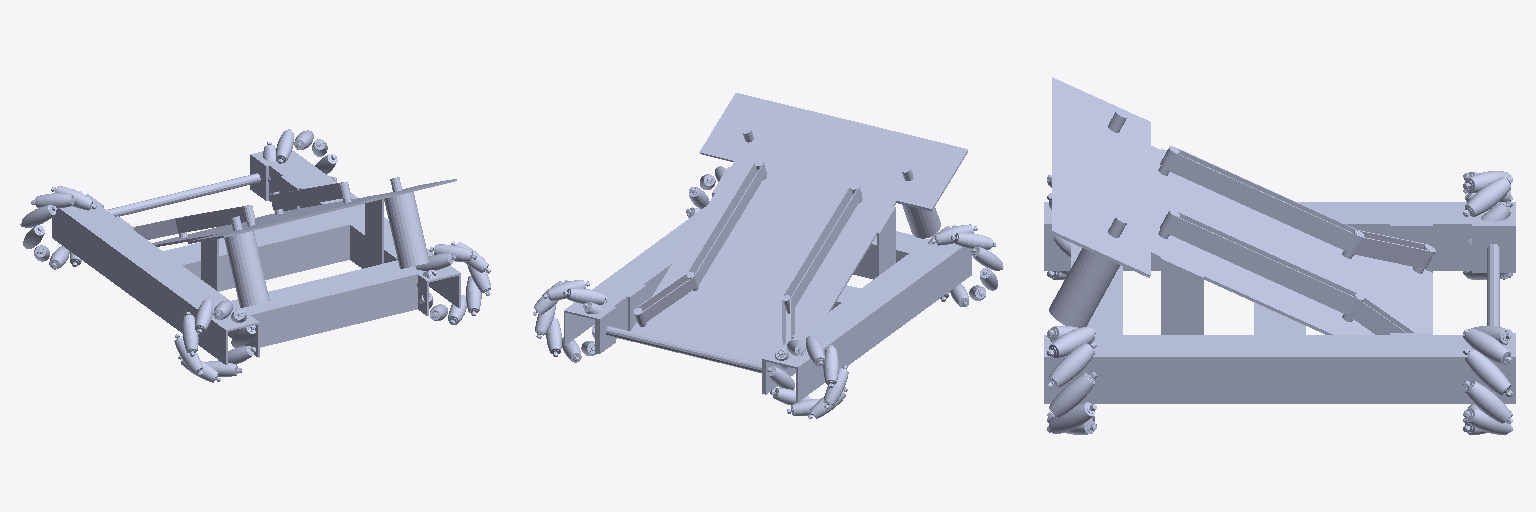
--- What the picture shows (computed from the rendered views, not written in the file) ---
Views: 3 orthographic renders of the robot side by side, from view 1: azimuth 30°, elevation 25°; view 2: azimuth 150°, elevation 25°; view 3: azimuth 270°, elevation 25°.
Robot: strafer_model — 41 links, 40 joints (4 revolute, 36 continuous); root link base_link; default pose: all joints at 0.
Visible links, largest first — view 1: base_link, BRRoller6, BLRoller1; view 2: base_link, FLRoller2, BRRoller7, BLRoller2; view 3: base_link, FLRoller4, FRRoller7, FRRoller6, FLRoller5, BLRoller9, FLRoller3, FRRoller8, FRRoller5, FLRoller6, BLRoller1.
Link boxes in pixels (x1,y1,x2,y2): base_link: [52, 150, 460, 364]; BRRoller6: [182, 312, 198, 356]; BLRoller1: [31, 193, 77, 208]; base_link: [564, 93, 971, 401]; FLRoller2: [563, 288, 607, 304]; BRRoller7: [951, 233, 995, 249]; BLRoller2: [823, 345, 838, 387]; base_link: [1044, 77, 1515, 403]; FLRoller4: [1463, 348, 1512, 396]; FRRoller7: [1047, 342, 1096, 388]; FRRoller6: [1047, 372, 1096, 418]; FLRoller5: [1463, 380, 1512, 423]; BLRoller9: [1463, 177, 1512, 216]; FLRoller3: [1463, 328, 1512, 364]; FRRoller8: [1047, 326, 1096, 357]; FRRoller5: [1047, 402, 1096, 433]; FLRoller6: [1463, 408, 1512, 434]; BLRoller1: [1463, 171, 1512, 192].
Bounding box of the posed robot: 0.4362 × 0.432 × 0.2011 m (x, y, z).
37 mesh visuals loaded from 6 distinct referenced files (2 binary STL); not drawn: 4 (reference not matched to a file when rendering).

robot.urdf — strafer_model:
<?xml version="1.0" encoding="utf-8"?>
<robot
  name="strafer_model">
  <link
    name="base_link">
    <inertial>
      <origin
        xyz="-0.016292 3.3582E-06 -0.02018"
        rpy="0 0 0" />
      <mass
        value="0.58644" />
      <inertia
        ixx="0.00065076"
        ixy="7.8985E-07"
        ixz="-2.2496E-13"
        iyy="0.0035701"
        iyz="-3.2998E-14"
        izz="0.0040095" />
    </inertial>
    <visual>
      <origin
        xyz="0 0 0"
        rpy="0 0 0" />
      <geometry>
        <mesh
          filename="package://strafer_model/meshes/base_link.STL" />
      </geometry>
      <material
        name="">
        <color
          rgba="0.79216 0.81961 0.93333 1" />
      </material>
    </visual>
    <collision>
      <origin
        xyz="0 0 0"
        rpy="0 0 0" />
      <geometry>
        <mesh
          filename="package://strafer_model/meshes/base_link.STL" />
      </geometry>
    </collision>
  </link>
  <link
    name="FrontLeftWheel">
    <inertial>
      <origin
        xyz="3.39739815277407E-05 4.9356401105316E-06 -0.00613659782409681"
        rpy="0 0 0" />
      <mass
        value="0.0804682866756198" />
      <inertia
        ixx="2.69245879503666E-05"
        ixy="-2.00917821834308E-10"
        ixz="4.63929817693137E-10"
        iyy="2.69699462595992E-05"
        iyz="-9.31893983633401E-10"
        izz="4.08759690754829E-05" />
    </inertial>
    <visual>
      <origin
        xyz="0 0 0"
        rpy="0 0 0" />
      <geometry>
        <mesh
          filename="package://strafer_model/meshes/FrontLeftWheel.STL" />
      </geometry>
      <material
        name="">
        <color
          rgba="0.792156862745098 0.819607843137255 0.933333333333333 1" />
      </material>
    </visual>
    <collision>
      <origin
        xyz="0 0 0"
        rpy="0 0 0" />
      <geometry>
        <mesh
          filename="package://strafer_model/meshes/FrontLeftWheel.STL" />
      </geometry>
    </collision>
  </link>
  <joint
    name="FLWheel"
    type="revolute">
    <origin
      xyz="0.168 0.1865 -0.024"
      rpy="-1.5708 0 0" />
    <parent
      link="base_link" />
    <child
      link="FrontLeftWheel" />
    <axis
      xyz="0 0 -1" />
    <limit
      lower="0"
      upper="0"
      effort="0"
      velocity="0" />
  </joint>
  <link
    name="FLRoller1">
    <inertial>
      <origin
        xyz="-2.34268624221823E-08 3.63620185073188E-08 1.0754510831934E-05"
        rpy="0 0 0" />
      <mass
        value="0.0112744168031489" />
      <inertia
        ixx="1.80406494202718E-06"
        ixy="2.14641839534138E-11"
        ixz="-1.91050875400135E-12"
        iyy="1.80394749460907E-06"
        iyz="8.09468708840999E-13"
        izz="4.6159022187171E-07" />
    </inertial>
    <visual>
      <origin
        xyz="0 0 0"
        rpy="0 0 0" />
      <geometry>
        <mesh
          filename="package://strafer_model/meshes/roller.STL" />
      </geometry>
      <material
        name="">
        <color
          rgba="0.792156862745098 0.819607843137255 0.933333333333333 1" />
      </material>
    </visual>
    <collision>
      <origin
        xyz="0 0 0"
        rpy="0 0 0" />
      <geometry>
        <mesh
          filename="package://strafer_model/meshes/roller.STL" />
      </geometry>
    </collision>
  </link>
  <joint
    name="FLRoll1"
    type="continuous">
    <origin
      xyz="-0.03653 -0.016961 0.0041748"
      rpy="0.7854 0 0.43633" />
    <parent
      link="FrontLeftWheel" />
    <child
      link="FLRoller1" />
    <axis
      xyz="0 0 -1" />
  </joint>
  <link
    name="FLRoller2">
    <inertial>
      <origin
        xyz="-4.49325468845907E-08 4.0966877959403E-08 1.07527109071692E-05"
        rpy="0 0 0" />
      <mass
        value="0.0112744164564055" />
      <inertia
        ixx="1.80406478097708E-06"
        ixy="2.14367409920363E-11"
        ixz="-1.83601624036415E-12"
        iyy="1.80394765211163E-06"
        iyz="1.10435374774077E-12"
        izz="4.61590241200356E-07" />
    </inertial>
    <visual>
      <origin
        xyz="0 0 0"
        rpy="0 0 0" />
      <geometry>
        <mesh
          filename="package://strafer_model/meshes/roller.STL" />
      </geometry>
      <material
        name="">
        <color
          rgba="0.792156862745098 0.819607843137255 0.933333333333333 1" />
      </material>
    </visual>
    <collision>
      <origin
        xyz="0 0 0"
        rpy="0 0 0" />
      <geometry>
        <mesh
          filename="package://strafer_model/meshes/roller.STL" />
      </geometry>
    </collision>
  </link>
  <joint
    name="FLRoll2"
    type="continuous">
    <origin
      xyz="-0.017081 -0.036475 0.0041748"
      rpy="0.7854 0 1.1345" />
    <parent
      link="FrontLeftWheel" />
    <child
      link="FLRoller2" />
    <axis
      xyz="0 0 -1" />
  </joint>
  <link
    name="FLRoller3">
    <inertial>
      <origin
        xyz="-2.38113999767586E-08 1.44467253992975E-08 1.07504095642197E-05"
        rpy="0 0 0" />
      <mass
        value="0.0112744230621349" />
      <inertia
        ixx="1.80406624338752E-06"
        ixy="2.45287119445432E-11"
        ixz="-9.97163842188661E-13"
        iyy="1.80394785966638E-06"
        iyz="-4.03543768648695E-13"
        izz="4.61590554384152E-07" />
    </inertial>
    <visual>
      <origin
        xyz="0 0 0"
        rpy="0 0 0" />
      <geometry>
        <mesh
          filename="package://strafer_model/meshes/roller.STL" />
      </geometry>
      <material
        name="">
        <color
          rgba="0.792156862745098 0.819607843137255 0.933333333333333 1" />
      </material>
    </visual>
    <collision>
      <origin
        xyz="0 0 0"
        rpy="0 0 0" />
      <geometry>
        <mesh
          filename="package://strafer_model/meshes/roller.STL" />
      </geometry>
    </collision>
  </link>
  <joint
    name="FLRoll3"
    type="continuous">
    <origin
      xyz="0.01036 -0.038921 0.0041748"
      rpy="0.7854 0 1.8326" />
    <parent
      link="FrontLeftWheel" />
    <child
      link="FLRoller3" />
    <axis
      xyz="0 0 -1" />
  </joint>
  <link
    name="FLRoller4">
    <inertial>
      <origin
        xyz="-3.63776565259766E-08 3.45034985166359E-08 1.07540245798121E-05"
        rpy="0 0 0" />
      <mass
        value="0.0112744162788279" />
      <inertia
        ixx="1.80406483795751E-06"
        ixy="2.14250374139785E-11"
        ixz="-1.93939304855891E-12"
        iyy="1.80394755863014E-06"
        iyz="9.79505755039191E-13"
        izz="4.61590235015267E-07" />
    </inertial>
    <visual>
      <origin
        xyz="0 0 0"
        rpy="0 0 0" />
      <geometry>
        <mesh
          filename="package://strafer_model/meshes/roller.STL" />
      </geometry>
      <material
        name="">
        <color
          rgba="0.792156862745098 0.819607843137255 0.933333333333333 1" />
      </material>
    </visual>
    <collision>
      <origin
        xyz="0 0 0"
        rpy="0 0 0" />
      <geometry>
        <mesh
          filename="package://strafer_model/meshes/roller.STL" />
      </geometry>
    </collision>
  </link>
  <joint
    name="FLRoll4"
    type="continuous">
    <origin
      xyz="0.032954 -0.023156 0.0041748"
      rpy="0.7854 0 2.5307" />
    <parent
      link="FrontLeftWheel" />
    <child
      link="FLRoller4" />
    <axis
      xyz="0 0 -1" />
  </joint>
  <link
    name="FLRoller5">
    <inertial>
      <origin
        xyz="1.23485176528604E-08 -1.13964373771314E-08 1.07508174673476E-05"
        rpy="0 0 0" />
      <mass
        value="0.0112744230610089" />
      <inertia
        ixx="1.80406277156194E-06"
        ixy="3.16480506904751E-11"
        ixz="9.37537876195166E-13"
        iyy="1.803951327602E-06"
        iyz="5.8706291318539E-13"
        izz="4.6159053646315E-07" />
    </inertial>
    <visual>
      <origin
        xyz="0 0 0"
        rpy="0 0 0" />
      <geometry>
        <mesh
          filename="package://strafer_model/meshes/roller.STL" />
      </geometry>
      <material
        name="">
        <color
          rgba="0.792156862745098 0.819607843137255 0.933333333333333 1" />
      </material>
    </visual>
    <collision>
      <origin
        xyz="0 0 0"
        rpy="0 0 0" />
      <geometry>
        <mesh
          filename="package://strafer_model/meshes/roller.STL" />
      </geometry>
    </collision>
  </link>
  <joint
    name="FLRoll5"
    type="continuous">
    <origin
      xyz="0.040129 0.0034443 0.0041748"
      rpy="-0.78444 -0.043675 0.04355" />
    <parent
      link="FrontLeftWheel" />
    <child
      link="FLRoller5" />
    <axis
      xyz="0 0 -1" />
  </joint>
  <link
    name="FLRoller6">
    <inertial>
      <origin
        xyz="-2.17163979576718E-08 3.94999260522333E-08 1.07537513077127E-05"
        rpy="0 0 0" />
      <mass
        value="0.0112744167461434" />
      <inertia
        ixx="1.80406494822239E-06"
        ixy="2.14815660143568E-11"
        ixz="-1.85051149954687E-12"
        iyy="1.80394749445496E-06"
        iyz="7.88746699227551E-13"
        izz="4.61590215120528E-07" />
    </inertial>
    <visual>
      <origin
        xyz="0 0 0"
        rpy="0 0 0" />
      <geometry>
        <mesh
          filename="package://strafer_model/meshes/roller.STL" />
      </geometry>
      <material
        name="">
        <color
          rgba="0.792156862745098 0.819607843137255 0.933333333333333 1" />
      </material>
    </visual>
    <collision>
      <origin
        xyz="0 0 0"
        rpy="0 0 0" />
      <geometry>
        <mesh
          filename="package://strafer_model/meshes/roller.STL" />
      </geometry>
    </collision>
  </link>
  <joint
    name="FLRoll6"
    type="continuous">
    <origin
      xyz="0.028526 0.028433 0.0041748"
      rpy="0.7854 0 -2.3562" />
    <parent
      link="FrontLeftWheel" />
    <child
      link="FLRoller6" />
    <axis
      xyz="0 0 -1" />
  </joint>
  <link
    name="FLRoller7">
    <inertial>
      <origin
        xyz="7.1129492712485E-09 -3.75346422831768E-08 1.07544833555517E-05"
        rpy="0 0 0" />
      <mass
        value="0.0112744169152084" />
      <inertia
        ixx="1.80406506403846E-06"
        ixy="2.14989064485802E-11"
        ixz="1.85532828398602E-12"
        iyy="1.80394742970951E-06"
        iyz="-5.93779847757905E-13"
        izz="4.6159022752474E-07" />
    </inertial>
    <visual>
      <origin
        xyz="0 0 0"
        rpy="0 0 0" />
      <geometry>
        <mesh
          filename="package://strafer_model/meshes/roller.STL" />
      </geometry>
      <material
        name="">
        <color
          rgba="0.792156862745098 0.819607843137255 0.933333333333333 1" />
      </material>
    </visual>
    <collision>
      <origin
        xyz="0 0 0"
        rpy="0 0 0" />
      <geometry>
        <mesh
          filename="package://strafer_model/meshes/roller.STL" />
      </geometry>
    </collision>
  </link>
  <joint
    name="FLRoll7"
    type="continuous">
    <origin
      xyz="0.0035763 0.040117 0.0041748"
      rpy="-0.7854 0 1.4835" />
    <parent
      link="FrontLeftWheel" />
    <child
      link="FLRoller7" />
    <axis
      xyz="0 0 -1" />
  </joint>
  <link
    name="FLRoller8">
    <inertial>
      <origin
        xyz="2.40038156712474E-09 2.72000632572933E-08 1.07495550280348E-05"
        rpy="0 0 0" />
      <mass
        value="0.011274422935902" />
      <inertia
        ixx="1.80406623432169E-06"
        ixy="2.45289334876781E-11"
        ixz="-7.92500932069932E-13"
        iyy="1.80394784013193E-06"
        iyz="-6.06160702632356E-13"
        izz="4.61590520972789E-07" />
    </inertial>
    <visual>
      <origin
        xyz="0 0 0"
        rpy="0 0 0" />
      <geometry>
        <mesh
          filename="package://strafer_model/meshes/roller.STL" />
      </geometry>
      <material
        name="">
        <color
          rgba="0.792156862745098 0.819607843137255 0.933333333333333 1" />
      </material>
    </visual>
    <collision>
      <origin
        xyz="0 0 0"
        rpy="0 0 0" />
      <geometry>
        <mesh
          filename="package://strafer_model/meshes/roller.STL" />
      </geometry>
    </collision>
  </link>
  <joint
    name="FLRoll8"
    type="continuous">
    <origin
      xyz="-0.023047 0.03303 0.0041748"
      rpy="0.7854 0 -0.95993" />
    <parent
      link="FrontLeftWheel" />
    <child
      link="FLRoller8" />
    <axis
      xyz="0 0 -1" />
  </joint>
  <link
    name="FLRoller9">
    <inertial>
      <origin
        xyz="-2.74759459906182E-08 4.92279496056014E-08 1.07521820149337E-05"
        rpy="0 0 0" />
      <mass
        value="0.0112744170259304" />
      <inertia
        ixx="1.80406491739991E-06"
        ixy="2.15169251142341E-11"
        ixz="-1.70579570544813E-12"
        iyy="1.80394758575905E-06"
        iyz="8.81940649496488E-13"
        izz="4.61590195727897E-07" />
    </inertial>
    <visual>
      <origin
        xyz="0 0 0"
        rpy="0 0 0" />
      <geometry>
        <mesh
          filename="package://strafer_model/meshes/roller.STL" />
      </geometry>
      <material
        name="">
        <color
          rgba="0.792156862745098 0.819607843137255 0.933333333333333 1" />
      </material>
    </visual>
    <collision>
      <origin
        xyz="0 0 0"
        rpy="0 0 0" />
      <geometry>
        <mesh
          filename="package://strafer_model/meshes/roller.STL" />
      </geometry>
    </collision>
  </link>
  <joint
    name="FLRoll9"
    type="continuous">
    <origin
      xyz="-0.038887 0.010488 0.0041748"
      rpy="0.7854 0 -0.2618" />
    <parent
      link="FrontLeftWheel" />
    <child
      link="FLRoller9" />
    <axis
      xyz="0 0 -1" />
  </joint>
  <link
    name="FrontRightWheel">
    <inertial>
      <origin
        xyz="4.36233315499468E-05 1.98643977483183E-05 -0.0063031560084984"
        rpy="0 0 0" />
      <mass
        value="0.0806070802648314" />
      <inertia
        ixx="2.69339983694675E-05"
        ixy="8.45197242498788E-09"
        ixz="1.00834401414536E-09"
        iyy="2.69652477885891E-05"
        iyz="-1.90457148654837E-09"
        izz="4.08798950068479E-05" />
    </inertial>
    <visual>
      <origin
        xyz="0 0 0"
        rpy="0 0 0" />
      <geometry>
        <mesh
          filename="package://strafer_model/meshes/FrontRightWheel.STL" />
      </geometry>
      <material
        name="">
        <color
          rgba="0.792156862745098 0.819607843137255 0.933333333333333 1" />
      </material>
    </visual>
    <collision>
      <origin
        xyz="0 0 0"
        rpy="0 0 0" />
      <geometry>
        <mesh
          filename="package://strafer_model/meshes/FrontRightWheel.STL" />
      </geometry>
    </collision>
  </link>
  <joint
    name="FRWheel"
    type="revolute">
    <origin
      xyz="0.168 -0.1865 -0.024"
      rpy="1.5708 0 0" />
    <parent
      link="base_link" />
    <child
      link="FrontRightWheel" />
    <axis
      xyz="0 0 -1" />
    <limit
      lower="0"
      upper="0"
      effort="0"
      velocity="0" />
  </joint>
  <link
    name="FRRoller1">
    <inertial>
      <origin
        xyz="1.72301547751719E-08 2.21694913399295E-08 -5.89914095061594E-06"
        rpy="0 0 0" />
      <mass
        value="0.0112744231238086" />
      <inertia
        ixx="1.80406315272245E-06"
        ixy="-3.26953192433989E-11"
        ixz="-9.80443309782096E-13"
        iyy="1.80395092178258E-06"
        iyz="1.05356285559854E-13"
        izz="4.61590531421906E-07" />
    </inertial>
    <visual>
      <origin
        xyz="0 0 0"
        rpy="0 0 0" />
      <geometry>
        <mesh
          filename="package://strafer_model/meshes/roller.STL" />
      </geometry>
      <material
        name="">
        <color
          rgba="0.792156862745098 0.819607843137255 0.933333333333333 1" />
      </material>
    </visual>
    <collision>
      <origin
        xyz="0 0 0"
        rpy="0 0 0" />
      <geometry>
        <mesh
          filename="package://strafer_model/meshes/roller.STL" />
      </geometry>
    </collision>
  </link>
  <joint
    name="FRRoll1"
    type="continuous">
    <origin
      xyz="-0.038905 0.01042 0.0042545"
      rpy="-0.7854 0 -0.2618" />
    <parent
      link="FrontRightWheel" />
    <child
      link="FRRoller1" />
    <axis
      xyz="0 0 -1" />
  </joint>
  <link
    name="FRRoller2">
    <inertial>
      <origin
        xyz="8.47089914879362E-09 4.88616552496435E-08 -5.89353919573654E-06"
        rpy="0 0 0" />
      <mass
        value="0.0112744172818041" />
      <inertia
        ixx="1.80405972494955E-06"
        ixy="-3.4161637092801E-11"
        ixz="-1.23870576633177E-12"
        iyy="1.8039528156778E-06"
        iyz="1.74961375973445E-12"
        izz="4.61590210352325E-07" />
    </inertial>
    <visual>
      <origin
        xyz="0 0 0"
        rpy="0 0 0" />
      <geometry>
        <mesh
          filename="package://strafer_model/meshes/roller.STL" />
      </geometry>
      <material
        name="">
        <color
          rgba="0.792156862745098 0.819607843137255 0.933333333333333 1" />
      </material>
    </visual>
    <collision>
      <origin
        xyz="0 0 0"
        rpy="0 0 0" />
      <geometry>
        <mesh
          filename="package://strafer_model/meshes/roller.STL" />
      </geometry>
    </collision>
  </link>
  <joint
    name="FRRoll2"
    type="continuous">
    <origin
      xyz="-0.036501 -0.017025 0.0042545"
      rpy="-0.7854 0 0.43633" />
    <parent
      link="FrontRightWheel" />
    <child
      link="FRRoller2" />
    <axis
      xyz="0 0 -1" />
  </joint>
  <link
    name="FRRoller3">
    <inertial>
      <origin
        xyz="2.39597095635924E-09 2.5117392221663E-08 -5.88952659290667E-06"
        rpy="0 0 0" />
      <mass
        value="0.0112744099750016" />
      <inertia
        ixx="1.80405596432675E-06"
        ixy="-3.58736954034125E-11"
        ixz="-8.91837889891117E-13"
        iyy="1.80395465737001E-06"
        iyz="2.31939172871155E-13"
        izz="4.61589908168111E-07" />
    </inertial>
    <visual>
      <origin
        xyz="0 0 0"
        rpy="0 0 0" />
      <geometry>
        <mesh
          filename="package://strafer_model/meshes/roller.STL" />
      </geometry>
      <material
        name="">
        <color
          rgba="0.792156862745098 0.819607843137255 0.933333333333333 1" />
      </material>
    </visual>
    <collision>
      <origin
        xyz="0 0 0"
        rpy="0 0 0" />
      <geometry>
        <mesh
          filename="package://strafer_model/meshes/roller.STL" />
      </geometry>
    </collision>
  </link>
  <joint
    name="FRRoll3"
    type="continuous">
    <origin
      xyz="-0.017017 -0.036504 0.0042545"
      rpy="-0.7854 0 1.1345" />
    <parent
      link="FrontRightWheel" />
    <child
      link="FRRoller3" />
    <axis
      xyz="0 0 -1" />
  </joint>
  <link
    name="FRRoller4">
    <inertial>
      <origin
        xyz="-1.86562677528812E-08 4.08430093634671E-08 -5.88968424471148E-06"
        rpy="0 0 0" />
      <mass
        value="0.0112744101071283" />
      <inertia
        ixx="1.80405600234828E-06"
        ixy="-3.58510973001867E-11"
        ixz="-5.74981388808108E-13"
        iyy="1.80395475136628E-06"
        iyz="6.13315684559003E-13"
        izz="4.61589949557257E-07" />
    </inertial>
    <visual>
      <origin
        xyz="0 0 0"
        rpy="0 0 0" />
      <geometry>
        <mesh
          filename="package://strafer_model/meshes/roller.STL" />
      </geometry>
      <material
        name="">
        <color
          rgba="0.792156862745098 0.819607843137255 0.933333333333333 1" />
      </material>
    </visual>
    <collision>
      <origin
        xyz="0 0 0"
        rpy="0 0 0" />
      <geometry>
        <mesh
          filename="package://strafer_model/meshes/roller.STL" />
      </geometry>
    </collision>
  </link>
  <joint
    name="FRRoll4"
    type="continuous">
    <origin
      xyz="0.010429 -0.038903 0.0042545"
      rpy="-0.7854 0 1.8326" />
    <parent
      link="FrontRightWheel" />
    <child
      link="FRRoller4" />
    <axis
      xyz="0 0 -1" />
  </joint>
  <link
    name="FRRoller5">
    <inertial>
      <origin
        xyz="1.24872131801457E-08 2.33703876528768E-08 -5.89889340556204E-06"
        rpy="0 0 0" />
      <mass
        value="0.0112744230742733" />
      <inertia
        ixx="1.80406313344894E-06"
        ixy="-3.27002401601859E-11"
        ixz="-9.89834605214614E-13"
        iyy="1.80395089952915E-06"
        iyz="1.50531232900634E-13"
        izz="4.61590525213857E-07" />
    </inertial>
    <visual>
      <origin
        xyz="0 0 0"
        rpy="0 0 0" />
      <geometry>
        <mesh
          filename="package://strafer_model/meshes/roller.STL" />
      </geometry>
      <material
        name="">
        <color
          rgba="0.792156862745098 0.819607843137255 0.933333333333333 1" />
      </material>
    </visual>
    <collision>
      <origin
        xyz="0 0 0"
        rpy="0 0 0" />
      <geometry>
        <mesh
          filename="package://strafer_model/meshes/roller.STL" />
      </geometry>
    </collision>
  </link>
  <joint
    name="FRRoll5"
    type="continuous">
    <origin
      xyz="0.032995 -0.023098 0.0042545"
      rpy="-0.7854 0 2.5307" />
    <parent
      link="FrontRightWheel" />
    <child
      link="FRRoller5" />
    <axis
      xyz="0 0 -1" />
  </joint>
  <link
    name="FRRoller6">
    <inertial>
      <origin
        xyz="3.72740838194829E-10 -2.3394534504062E-09 -5.89679688434153E-06"
        rpy="0 0 0" />
      <mass
        value="0.0112744169150995" />
      <inertia
        ixx="1.80405966114829E-06"
        ixy="-3.43117205376048E-11"
        ixz="-6.77575136227232E-13"
        iyy="1.80395278555732E-06"
        iyz="-1.29435432265216E-12"
        izz="4.61590235063729E-07" />
    </inertial>
    <visual>
      <origin
        xyz="0 0 0"
        rpy="0 0 0" />
      <geometry>
        <mesh
          filename="package://strafer_model/meshes/roller.STL" />
      </geometry>
      <material
        name="">
        <color
          rgba="0.792156862745098 0.819607843137255 0.933333333333333 1" />
      </material>
    </visual>
    <collision>
      <origin
        xyz="0 0 0"
        rpy="0 0 0" />
      <geometry>
        <mesh
          filename="package://strafer_model/meshes/roller.STL" />
      </geometry>
    </collision>
  </link>
  <joint
    name="FRRoll6"
    type="continuous">
    <origin
      xyz="0.040122 0.0035148 0.0042545"
      rpy="-0.7854 0 -3.0543" />
    <parent
      link="FrontRightWheel" />
    <child
      link="FRRoller6" />
    <axis
      xyz="0 0 -1" />
  </joint>
  <link
    name="FRRoller7">
    <inertial>
      <origin
        xyz="2.76787206487938E-08 1.41292997024589E-08 -5.88884661534284E-06"
        rpy="0 0 0" />
      <mass
        value="0.0112744099174909" />
      <inertia
        ixx="1.80405600480879E-06"
        ixy="-3.58621736539999E-11"
        ixz="-1.09735819494275E-12"
        iyy="1.80395470267342E-06"
        iyz="-1.96976039198095E-13"
        izz="4.61589931830094E-07" />
    </inertial>
    <visual>
      <origin
        xyz="0 0 0"
        rpy="0 0 0" />
      <geometry>
        <mesh
          filename="package://strafer_model/meshes/roller.STL" />
      </geometry>
      <material
        name="">
        <color
          rgba="0.792156862745098 0.819607843137255 0.933333333333333 1" />
      </material>
    </visual>
    <collision>
      <origin
        xyz="0 0 0"
        rpy="0 0 0" />
      <geometry>
        <mesh
          filename="package://strafer_model/meshes/roller.STL" />
      </geometry>
    </collision>
  </link>
  <joint
    name="FRRoll7"
    type="continuous">
    <origin
      xyz="0.028476 0.028483 0.0042545"
      rpy="-0.7854 0 -2.3562" />
    <parent
      link="FrontRightWheel" />
    <child
      link="FRRoller7" />
    <axis
      xyz="0 0 -1" />
  </joint>
  <link
    name="FRRoller8">
    <inertial>
      <origin
        xyz="2.0840766161434E-08 -3.67983377103087E-09 -5.89501580774976E-06"
        rpy="0 0 0" />
      <mass
        value="0.011274416423759" />
      <inertia
        ixx="1.80405949635789E-06"
        ixy="-3.4268382847032E-11"
        ixz="-6.74486806082054E-13"
        iyy="1.80395285003788E-06"
        iyz="-1.57584957095437E-12"
        izz="4.61590225976892E-07" />
    </inertial>
    <visual>
      <origin
        xyz="0 0 0"
        rpy="0 0 0" />
      <geometry>
        <mesh
          filename="package://strafer_model/meshes/roller.STL" />
      </geometry>
      <material
        name="">
        <color
          rgba="0.792156862745098 0.819607843137255 0.933333333333333 1" />
      </material>
    </visual>
    <collision>
      <origin
        xyz="0 0 0"
        rpy="0 0 0" />
      <geometry>
        <mesh
          filename="package://strafer_model/meshes/roller.STL" />
      </geometry>
    </collision>
  </link>
  <joint
    name="FRRoll8"
    type="continuous">
    <origin
      xyz="0.0035058 0.040123 0.0042545"
      rpy="-0.7854 0 -1.6581" />
    <parent
      link="FrontRightWheel" />
    <child
      link="FRRoller8" />
    <axis
      xyz="0 0 -1" />
  </joint>
  <link
    name="FRRoller9">
    <inertial>
      <origin
        xyz="3.20883486171208E-08 3.74913070935734E-08 -5.89355719884943E-06"
        rpy="0 0 0" />
      <mass
        value="0.0112744175389966" />
      <inertia
        ixx="1.80405988234266E-06"
        ixy="-3.42507922758067E-11"
        ixz="-1.3716603614675E-12"
        iyy="1.80395275024669E-06"
        iyz="1.41158639324287E-12"
        izz="4.61590268309118E-07" />
    </inertial>
    <visual>
      <origin
        xyz="0 0 0"
        rpy="0 0 0" />
      <geometry>
        <mesh
          filename="package://strafer_model/meshes/roller.STL" />
      </geometry>
      <material
        name="">
        <color
          rgba="0.792156862745098 0.819607843137255 0.933333333333333 1" />
      </material>
    </visual>
    <collision>
      <origin
        xyz="0 0 0"
        rpy="0 0 0" />
      <geometry>
        <mesh
          filename="package://strafer_model/meshes/roller.STL" />
      </geometry>
    </collision>
  </link>
  <joint
    name="FRRoll9"
    type="continuous">
    <origin
      xyz="-0.023105 0.03299 0.0042545"
      rpy="-0.7854 0 -0.95993" />
    <parent
      link="FrontRightWheel" />
    <child
      link="FRRoller9" />
    <axis
      xyz="0 0 -1" />
  </joint>
  <link
    name="BackRightWheel">
    <inertial>
      <origin
        xyz="3.58572408978297E-05 2.72734973197943E-05 -0.00634617417594935"
        rpy="0 0 0" />
      <mass
        value="0.0807005099262135" />
      <inertia
        ixx="2.69261769077989E-05"
        ixy="-3.27849618966633E-08"
        ixz="-2.66992353464912E-10"
        iyy="2.6973564164574E-05"
        iyz="1.46570856814039E-09"
        izz="4.08801253849229E-05" />
    </inertial>
    <visual>
      <origin
        xyz="0 0 0"
        rpy="0 0 0" />
      <geometry>
        <mesh
          filename="package://strafer_model/meshes/BackRightWheel.STL" />
      </geometry>
      <material
        name="">
        <color
          rgba="0.792156862745098 0.819607843137255 0.933333333333333 1" />
      </material>
    </visual>
    <collision>
      <origin
        xyz="0 0 0"
        rpy="0 0 0" />
      <geometry>
        <mesh
          filename="package://strafer_model/meshes/BackRightWheel.STL" />
      </geometry>
    </collision>
  </link>
  <joint
    name="BRWheel"
    type="revolute">
    <origin
      xyz="-0.168 -0.1865 -0.024"
      rpy="1.5708 0 0" />
    <parent
      link="base_link" />
    <child
      link="BackRightWheel" />
    <axis
      xyz="0 0 1" />
    <limit
      lower="0"
      upper="0"
      effort="0"
      velocity="0" />
  </joint>
  <link
    name="BRRoller1">
    <inertial>
      <origin
        xyz="-3.70549421702115E-09 -2.51753588809134E-08 1.07498380341048E-05"
        rpy="0 0 0" />
      <mass
        value="0.0112744229425427" />
      <inertia
        ixx="1.80406623639161E-06"
        ixy="2.45317896151261E-11"
        ixz="7.88062497975017E-13"
        iyy="1.80394784062593E-06"
        iyz="6.25590244682742E-13"
        izz="4.61590525732879E-07" />
    </inertial>
    <visual>
      <origin
        xyz="0 0 0"
        rpy="0 0 0" />
      <geometry>
        <mesh
          filename="package://strafer_model/meshes/roller.STL" />
      </geometry>
      <material
        name="">
        <color
          rgba="0.792156862745098 0.819607843137255 0.933333333333333 1" />
      </material>
    </visual>
    <collision>
      <origin
        xyz="0 0 0"
        rpy="0 0 0" />
      <geometry>
        <mesh
          filename="package://strafer_model/meshes/roller.STL" />
      </geometry>
    </collision>
  </link>
  <joint
    name="BRRoll1"
    type="continuous">
    <origin
      xyz="0.040117 -0.0035763 0.0041748"
      rpy="-0.7854 0 -0.087266" />
    <parent
      link="BackRightWheel" />
    <child
      link="BRRoller1" />
    <axis
      xyz="0 0 -1" />
  </joint>
  <link
    name="BRRoller2">
    <inertial>
      <origin
        xyz="-8.61319057743337E-10 -1.36720622601061E-08 1.07543658920406E-05"
        rpy="0 0 0" />
      <mass
        value="0.0112744159084329" />
      <inertia
        ixx="1.80406501297428E-06"
        ixy="2.13189955994949E-11"
        ixz="-3.69336073757058E-13"
        iyy="1.80394724794449E-06"
        iyz="1.75077527581196E-12"
        izz="4.61590198509169E-07" />
    </inertial>
    <visual>
      <origin
        xyz="0 0 0"
        rpy="0 0 0" />
      <geometry>
        <mesh
          filename="package://strafer_model/meshes/roller.STL" />
      </geometry>
      <material
        name="">
        <color
          rgba="0.792156862745098 0.819607843137255 0.933333333333333 1" />
      </material>
    </visual>
    <collision>
      <origin
        xyz="0 0 0"
        rpy="0 0 0" />
      <geometry>
        <mesh
          filename="package://strafer_model/meshes/roller.STL" />
      </geometry>
    </collision>
  </link>
  <joint
    name="BRRoll2"
    type="continuous">
    <origin
      xyz="0.028433 -0.028526 0.0041748"
      rpy="-0.7854 0 -0.7854" />
    <parent
      link="BackRightWheel" />
    <child
      link="BRRoller2" />
    <axis
      xyz="0 0 -1" />
  </joint>
  <link
    name="BRRoller3">
    <inertial>
      <origin
        xyz="1.11706555047664E-08 -1.29188574005124E-08 1.07608866123303E-05"
        rpy="0 0 0" />
      <mass
        value="0.0112744099792831" />
      <inertia
        ixx="1.80406376185463E-06"
        ixy="1.8302217605316E-11"
        ixz="9.2988695100941E-13"
        iyy="1.80394693907748E-06"
        iyz="4.54340564004758E-13"
        izz="4.61589918341109E-07" />
    </inertial>
    <visual>
      <origin
        xyz="0 0 0"
        rpy="0 0 0" />
      <geometry>
        <mesh
          filename="package://strafer_model/meshes/roller.STL" />
      </geometry>
      <material
        name="">
        <color
          rgba="0.792156862745098 0.819607843137255 0.933333333333333 1" />
      </material>
    </visual>
    <collision>
      <origin
        xyz="0 0 0"
        rpy="0 0 0" />
      <geometry>
        <mesh
          filename="package://strafer_model/meshes/roller.STL" />
      </geometry>
    </collision>
  </link>
  <joint
    name="BRRoll3"
    type="continuous">
    <origin
      xyz="0.0034443 -0.040129 0.0041748"
      rpy="-0.7854 0 -1.4835" />
    <parent
      link="BackRightWheel" />
    <child
      link="BRRoller3" />
    <axis
      xyz="0 0 -1" />
  </joint>
  <link
    name="BRRoller4">
    <inertial>
      <origin
        xyz="2.41257971378417E-08 -2.23283039280098E-08 1.07590918941441E-05"
        rpy="0 0 0" />
      <mass
        value="0.0112744096614576" />
      <inertia
        ixx="1.80406374482498E-06"
        ixy="1.82725280835922E-11"
        ixz="7.39345306567215E-13"
        iyy="1.80394694118125E-06"
        iyz="2.21186564380963E-13"
        izz="4.61589922564266E-07" />
    </inertial>
    <visual>
      <origin
        xyz="0 0 0"
        rpy="0 0 0" />
      <geometry>
        <mesh
          filename="package://strafer_model/meshes/roller.STL" />
      </geometry>
      <material
        name="">
        <color
          rgba="0.792156862745098 0.819607843137255 0.933333333333333 1" />
      </material>
    </visual>
    <collision>
      <origin
        xyz="0 0 0"
        rpy="0 0 0" />
      <geometry>
        <mesh
          filename="package://strafer_model/meshes/roller.STL" />
      </geometry>
    </collision>
  </link>
  <joint
    name="BRRoll4"
    type="continuous">
    <origin
      xyz="-0.023156 -0.032954 0.0041748"
      rpy="-0.7854 0 -2.1817" />
    <parent
      link="BackRightWheel" />
    <child
      link="BRRoller4" />
    <axis
      xyz="0 0 -1" />
  </joint>
  <link
    name="BRRoller5">
    <inertial>
      <origin
        xyz="2.38113999628808E-08 -1.44467253715419E-08 1.07504095642474E-05"
        rpy="0 0 0" />
      <mass
        value="0.011274423062135" />
      <inertia
        ixx="1.80406624338753E-06"
        ixy="2.45287119448873E-11"
        ixz="9.9716384087179E-13"
        iyy="1.80394785966638E-06"
        iyz="4.03543767047273E-13"
        izz="4.61590554384152E-07" />
    </inertial>
    <visual>
      <origin
        xyz="0 0 0"
        rpy="0 0 0" />
      <geometry>
        <mesh
          filename="package://strafer_model/meshes/roller.STL" />
      </geometry>
      <material
        name="">
        <color
          rgba="0.792156862745098 0.819607843137255 0.933333333333333 1" />
      </material>
    </visual>
    <collision>
      <origin
        xyz="0 0 0"
        rpy="0 0 0" />
      <geometry>
        <mesh
          filename="package://strafer_model/meshes/roller.STL" />
      </geometry>
    </collision>
  </link>
  <joint
    name="BRRoll5"
    type="continuous">
    <origin
      xyz="-0.038921 -0.01036 0.0041748"
      rpy="-0.7854 0 -2.8798" />
    <parent
      link="BackRightWheel" />
    <child
      link="BRRoller5" />
    <axis
      xyz="0 0 -1" />
  </joint>
  <link
    name="BRRoller6">
    <inertial>
      <origin
        xyz="2.23238904029088E-08 -1.51046735674676E-08 1.07529976532683E-05"
        rpy="0 0 0" />
      <mass
        value="0.0112744160640576" />
      <inertia
        ixx="1.80406517596577E-06"
        ixy="2.13173635292653E-11"
        ixz="-3.81334855978968E-13"
        iyy="1.80394717235211E-06"
        iyz="1.43223600723487E-12"
        izz="4.61590233449623E-07" />
    </inertial>
    <visual>
      <origin
        xyz="0 0 0"
        rpy="0 0 0" />
      <geometry>
        <mesh
          filename="package://strafer_model/meshes/roller.STL" />
      </geometry>
      <material
        name="">
        <color
          rgba="0.792156862745098 0.819607843137255 0.933333333333333 1" />
      </material>
    </visual>
    <collision>
      <origin
        xyz="0 0 0"
        rpy="0 0 0" />
      <geometry>
        <mesh
          filename="package://strafer_model/meshes/roller.STL" />
      </geometry>
    </collision>
  </link>
  <joint
    name="BRRoll6"
    type="continuous">
    <origin
      xyz="-0.036475 0.017081 0.0041748"
      rpy="-0.7854 0 2.7053" />
    <parent
      link="BackRightWheel" />
    <child
      link="BRRoller6" />
    <axis
      xyz="0 0 -1" />
  </joint>
  <link
    name="BRRoller7">
    <inertial>
      <origin
        xyz="2.34268624776934E-08 -3.63620184778285E-08 1.07545108319618E-05"
        rpy="0 0 0" />
      <mass
        value="0.0112744168031489" />
      <inertia
        ixx="1.80406494202718E-06"
        ixy="2.14641839530962E-11"
        ixz="1.91050875369694E-12"
        iyy="1.80394749460907E-06"
        iyz="-8.09468709350542E-13"
        izz="4.6159022187171E-07" />
    </inertial>
    <visual>
      <origin
        xyz="0 0 0"
        rpy="0 0 0" />
      <geometry>
        <mesh
          filename="package://strafer_model/meshes/roller.STL" />
      </geometry>
      <material
        name="">
        <color
          rgba="0.792156862745098 0.819607843137255 0.933333333333333 1" />
      </material>
    </visual>
    <collision>
      <origin
        xyz="0 0 0"
        rpy="0 0 0" />
      <geometry>
        <mesh
          filename="package://strafer_model/meshes/roller.STL" />
      </geometry>
    </collision>
  </link>
  <joint
    name="BRRoll7"
    type="continuous">
    <origin
      xyz="-0.016961 0.03653 0.0041748"
      rpy="-0.7854 0 2.0071" />
    <parent
      link="BackRightWheel" />
    <child
      link="BRRoller7" />
    <axis
      xyz="0 0 -1" />
  </joint>
  <link
    name="BRRoller8">
    <inertial>
      <origin
        xyz="2.74759460010265E-08 -4.92279496272854E-08 1.07521820151002E-05"
        rpy="0 0 0" />
      <mass
        value="0.0112744170259304" />
      <inertia
        ixx="1.80406491739991E-06"
        ixy="2.15169251144458E-11"
        ixz="1.70579570431655E-12"
        iyy="1.80394758575905E-06"
        iyz="-8.81940649670196E-13"
        izz="4.61590195727895E-07" />
    </inertial>
    <visual>
      <origin
        xyz="0 0 0"
        rpy="0 0 0" />
      <geometry>
        <mesh
          filename="package://strafer_model/meshes/roller.STL" />
      </geometry>
      <material
        name="">
        <color
          rgba="0.792156862745098 0.819607843137255 0.933333333333333 1" />
      </material>
    </visual>
    <collision>
      <origin
        xyz="0 0 0"
        rpy="0 0 0" />
      <geometry>
        <mesh
          filename="package://strafer_model/meshes/roller.STL" />
      </geometry>
    </collision>
  </link>
  <joint
    name="BRRoll8"
    type="continuous">
    <origin
      xyz="0.010488 0.038887 0.0041748"
      rpy="-0.7854 0 1.309" />
    <parent
      link="BackRightWheel" />
    <child
      link="BRRoller8" />
    <axis
      xyz="0 0 -1" />
  </joint>
  <link
    name="BRRoller9">
    <inertial>
      <origin
        xyz="-3.56718636573827E-09 -2.61155022399095E-08 1.07596055964054E-05"
        rpy="0 0 0" />
      <mass
        value="0.0112744098368941" />
      <inertia
        ixx="1.8040637513681E-06"
        ixy="1.8285493791034E-11"
        ixz="6.81904798710302E-13"
        iyy="1.80394693196833E-06"
        iyz="7.09227059626632E-13"
        izz="4.61589903990939E-07" />
    </inertial>
    <visual>
      <origin
        xyz="0 0 0"
        rpy="0 0 0" />
      <geometry>
        <mesh
          filename="package://strafer_model/meshes/roller.STL" />
      </geometry>
      <material
        name="">
        <color
          rgba="0.792156862745098 0.819607843137255 0.933333333333333 1" />
      </material>
    </visual>
    <collision>
      <origin
        xyz="0 0 0"
        rpy="0 0 0" />
      <geometry>
        <mesh
          filename="package://strafer_model/meshes/roller.STL" />
      </geometry>
    </collision>
  </link>
  <joint
    name="BRRoll9"
    type="continuous">
    <origin
      xyz="0.03303 0.023047 0.0041748"
      rpy="-0.7854 0 0.61087" />
    <parent
      link="BackRightWheel" />
    <child
      link="BRRoller9" />
    <axis
      xyz="0 0 -1" />
  </joint>
<link
    name="BackLeftWheel">
    <inertial>
      <origin
        xyz="4.0941E-05 -1.4149E-05 -0.0063181"
        rpy="0 0 0" />
      <mass
        value="0.080698" />
      <inertia
        ixx="2.6934E-05"
        ixy="-2.2931E-08"
        ixz="-2.783E-10"
        iyy="2.6965E-05"
        iyz="1.5662E-09"
        izz="4.088E-05" />
    </inertial>
    <visual>
      <origin
        xyz="0 0 0"
        rpy="0 0 0" />
      <geometry>
        <mesh
          filename="package://strafer_model/meshes/BackLeftWheel.STL" />
      </geometry>
      <material
        name="">
        <color
          rgba="1 1 1 1" />
      </material>
    </visual>
    <collision>
      <origin
        xyz="0 0 0"
        rpy="0 0 0" />
      <geometry>
        <mesh
          filename="package://strafer_model/meshes/BackLeftWheel.STL" />
      </geometry>
    </collision>
  </link>
  <joint
    name="BLWheel"
    type="revolute">
    <origin
      xyz="-0.168 0.1865 -0.024"
      rpy="-1.5708 0 0" />
    <parent
      link="base_link" />
    <child
      link="BackLeftWheel" />
    <axis
      xyz="0 0 -1" />
    <limit
      lower="0"
      upper="0"
      effort="0"
      velocity="0" />
  </joint>
  <link
    name="BLRoller1">
    <inertial>
      <origin
        xyz="-2.17254289003321E-08 -4.87113209143852E-09 -5.89378497140025E-06"
        rpy="0 0 0" />
      <mass
        value="0.0112744160558805" />
      <inertia
        ixx="1.80405944644047E-06"
        ixy="-3.43132667227434E-11"
        ixz="5.40683496620466E-13"
        iyy="1.8039528310075E-06"
        iyz="1.58541441123077E-12"
        izz="4.61590212009887E-07" />
    </inertial>
    <visual>
      <origin
        xyz="0 0 0"
        rpy="0 0 0" />
      <geometry>
        <mesh
          filename="package://strafer_model/meshes/roller.STL" />
      </geometry>
      <material
        name="">
        <color
          rgba="0.792156862745098 0.819607843137255 0.933333333333333 1" />
      </material>
    </visual>
    <collision>
      <origin
        xyz="0 0 0"
        rpy="0 0 0" />
      <geometry>
        <mesh
          filename="package://strafer_model/meshes/roller.STL" />
      </geometry>
    </collision>
  </link>
  <joint
    name="BLRoll1"
    type="continuous">
    <origin
      xyz="-0.01042 -0.038905 0.0042545"
      rpy="0.7854 0 -1.8326" />
    <parent
      link="BackLeftWheel" />
    <child
      link="BLRoller1" />
    <axis
      xyz="0 0 -1" />
  </joint>
  <link
    name="BLRoller2">
    <inertial>
      <origin
        xyz="-4.0856044242199E-08 -4.30409763385597E-09 -5.89210596679823E-06"
        rpy="0 0 0" />
      <mass
        value="0.0112744155510455" />
      <inertia
        ixx="1.80405928282235E-06"
        ixy="-3.42674287325038E-11"
        ixz="5.109662796059E-13"
        iyy="1.80395291971868E-06"
        iyz="1.84551881226857E-12"
        izz="4.61590228887421E-07" />
    </inertial>
    <visual>
      <origin
        xyz="0 0 0"
        rpy="0 0 0" />
      <geometry>
        <mesh
          filename="package://strafer_model/meshes/roller.STL" />
      </geometry>
      <material
        name="">
        <color
          rgba="0.792156862745098 0.819607843137255 0.933333333333333 1" />
      </material>
    </visual>
    <collision>
      <origin
        xyz="0 0 0"
        rpy="0 0 0" />
      <geometry>
        <mesh
          filename="package://strafer_model/meshes/roller.STL" />
      </geometry>
    </collision>
  </link>
  <joint
    name="BLRoll2"
    type="continuous">
    <origin
      xyz="-0.03299 -0.023105 0.0042545"
      rpy="0.7854 0 -2.5307" />
    <parent
      link="BackLeftWheel" />
    <child
      link="BLRoller2" />
    <axis
      xyz="0 0 -1" />
  </joint>
  <link
    name="BLRoller3">
    <inertial>
      <origin
        xyz="1.38456099918471E-08 2.88012359517253E-08 -5.89536586492745E-06"
        rpy="0 0 0" />
      <mass
        value="0.0112744169068179" />
      <inertia
        ixx="1.80405503234017E-06"
        ixy="-4.0636065817451E-11"
        ixz="-1.42767380103949E-12"
        iyy="1.80395741775438E-06"
        iyz="1.76624996880674E-12"
        izz="4.61590235519195E-07" />
    </inertial>
    <visual>
      <origin
        xyz="0 0 0"
        rpy="0 0 0" />
      <geometry>
        <mesh
          filename="package://strafer_model/meshes/roller.STL" />
      </geometry>
      <material
        name="">
        <color
          rgba="0.792156862745098 0.819607843137255 0.933333333333333 1" />
      </material>
    </visual>
    <collision>
      <origin
        xyz="0 0 0"
        rpy="0 0 0" />
      <geometry>
        <mesh
          filename="package://strafer_model/meshes/roller.STL" />
      </geometry>
    </collision>
  </link>
  <joint
    name="BLRoll3"
    type="continuous">
    <origin
      xyz="-0.040123 0.0035058 0.0042545"
      rpy="-0.78444 0.043675 -0.04355" />
    <parent
      link="BackLeftWheel" />
    <child
      link="BLRoller3" />
    <axis
      xyz="0 0 -1" />
  </joint>
  <link
    name="BLRoller4">
    <inertial>
      <origin
        xyz="2.56448269841947E-08 -1.99863744998474E-08 -5.89339538362155E-06"
        rpy="0 0 0" />
      <mass
        value="0.0112744158751617" />
      <inertia
        ixx="1.80406315070926E-06"
        ixy="-3.27127039723633E-11"
        ixz="1.12514364149125E-12"
        iyy="1.80395092390469E-06"
        iyz="-2.88218474873583E-13"
        izz="4.61590540553758E-07" />
    </inertial>
    <visual>
      <origin
        xyz="0 0 0"
        rpy="0 0 0" />
      <geometry>
        <mesh
          filename="package://strafer_model/meshes/roller.STL" />
      </geometry>
      <material
        name="">
        <color
          rgba="0.792156862745098 0.819607843137255 0.933333333333333 1" />
      </material>
    </visual>
    <collision>
      <origin
        xyz="0 0 0"
        rpy="0 0 0" />
      <geometry>
        <mesh
          filename="package://strafer_model/meshes/roller.STL" />
      </geometry>
    </collision>
  </link>
  <joint
    name="BLRoll4"
    type="continuous">
    <origin
      xyz="-0.028483 0.028476 0.0042545"
      rpy="-0.68472 0.42053 -0.32175" />
    <parent
      link="BackLeftWheel" />
    <child
      link="BLRoller4" />
    <axis
      xyz="0 0 -1" />
  </joint>
  <link
    name="BLRoller5">
    <inertial>
      <origin
        xyz="4.23297569218661E-09 -1.38883214373386E-08 -5.90157839172947E-06"
        rpy="0 0 0" />
      <mass
        value="0.0112744232332196" />
      <inertia
        ixx="1.80406315070926E-06"
        ixy="-3.27127039723633E-11"
        ixz="1.12514364149125E-12"
        iyy="1.80395092390469E-06"
        iyz="-2.88218474873583E-13"
        izz="4.61590540553758E-07" />
    </inertial>
    <visual>
      <origin
        xyz="0 0 0"
        rpy="0 0 0" />
      <geometry>
        <mesh
          filename="package://strafer_model/meshes/roller.STL" />
      </geometry>
      <material
        name="">
        <color
          rgba="0.792156862745098 0.819607843137255 0.933333333333333 1" />
      </material>
    </visual>
    <collision>
      <origin
        xyz="0 0 0"
        rpy="0 0 0" />
      <geometry>
        <mesh
          filename="package://strafer_model/meshes/roller.STL" />
      </geometry>
    </collision>
  </link>
  <joint
    name="BLRoll5"
    type="continuous">
    <origin
      xyz="-0.0035148 0.040122 0.0042545"
      rpy="0.7854 0 1.6581" />
    <parent
      link="BackLeftWheel" />
    <child
      link="BLRoller5" />
    <axis
      xyz="0 0 -1" />
  </joint>
  <link
    name="BLRoller6">
    <inertial>
      <origin
        xyz="-1.71375630145243E-08 -6.23114582154471E-09 -5.89360059166655E-06"
        rpy="0 0 0" />
      <mass
        value="0.0112744160901282" />
      <inertia
        ixx="1.8040594611027E-06"
        ixy="-3.43326200315308E-11"
        ixz="5.35850019342379E-13"
        iyy="1.80395279332181E-06"
        iyz="1.52475538409759E-12"
        izz="4.6159020725447E-07" />
    </inertial>
    <visual>
      <origin
        xyz="0 0 0"
        rpy="0 0 0" />
      <geometry>
        <mesh
          filename="package://strafer_model/meshes/roller.STL" />
      </geometry>
      <material
        name="">
        <color
          rgba="0.792156862745098 0.819607843137255 0.933333333333333 1" />
      </material>
    </visual>
    <collision>
      <origin
        xyz="0 0 0"
        rpy="0 0 0" />
      <geometry>
        <mesh
          filename="package://strafer_model/meshes/roller.STL" />
      </geometry>
    </collision>
  </link>
  <joint
    name="BLRoll6"
    type="continuous">
    <origin
      xyz="0.023098 0.032995 0.0042545"
      rpy="0.7854 0 0.95993" />
    <parent
      link="BackLeftWheel" />
    <child
      link="BLRoller6" />
    <axis
      xyz="0 0 -1" />
  </joint>
  <link
    name="BLRoller7">
    <inertial>
      <origin
        xyz="2.91431965226963E-08 -3.51086250349741E-08 -5.8996651091936E-06"
        rpy="0 0 0" />
      <mass
        value="0.0112744232524902" />
      <inertia
        ixx="1.80407122184959E-06"
        ixy="-9.90288567952687E-12"
        ixz="9.77291497257143E-13"
        iyy="1.80394291838317E-06"
        iyz="-3.5180797951654E-13"
        izz="4.61590577759381E-07" />
    </inertial>
    <visual>
      <origin
        xyz="0 0 0"
        rpy="0 0 0" />
      <geometry>
        <mesh
          filename="package://strafer_model/meshes/roller.STL" />
      </geometry>
      <material
        name="">
        <color
          rgba="0.792156862745098 0.819607843137255 0.933333333333333 1" />
      </material>
    </visual>
    <collision>
      <origin
        xyz="0 0 0"
        rpy="0 0 0" />
      <geometry>
        <mesh
          filename="package://strafer_model/meshes/roller.STL" />
      </geometry>
    </collision>
  </link>
  <joint
    name="BLRoll7"
    type="continuous">
    <origin
      xyz="0.038903 0.010429 0.0042545"
      rpy="0.77658 0.13202 0.12862" />
    <parent
      link="BackLeftWheel" />
    <child
      link="BLRoller7" />
    <axis
      xyz="0 0 -1" />
  </joint>
  <link
    name="BLRoller8">
    <inertial>
      <origin
        xyz="-6.21301547709674E-09 -8.58724280572432E-09 -5.89438065071168E-06"
        rpy="0 0 0" />
      <mass
        value="0.0112744163639167" />
      <inertia
        ixx="1.80405952806111E-06"
        ixy="-3.43649711310387E-11"
        ixz="5.1594742247364E-13"
        iyy="1.80395274294862E-06"
        iyz="1.38413515528141E-12"
        izz="4.61590215081298E-07" />
    </inertial>
    <visual>
      <origin
        xyz="0 0 0"
        rpy="0 0 0" />
      <geometry>
        <mesh
          filename="package://strafer_model/meshes/roller.STL" />
      </geometry>
      <material
        name="">
        <color
          rgba="0.792156862745098 0.819607843137255 0.933333333333333 1" />
      </material>
    </visual>
    <collision>
      <origin
        xyz="0 0 0"
        rpy="0 0 0" />
      <geometry>
        <mesh
          filename="package://strafer_model/meshes/roller.STL" />
      </geometry>
    </collision>
  </link>
  <joint
    name="BLRoll8"
    type="continuous">
    <origin
      xyz="0.036504 -0.017017 0.0042545"
      rpy="0.7854 0 -0.43633" />
    <parent
      link="BackLeftWheel" />
    <child
      link="BLRoller8" />
    <axis
      xyz="0 0 -1" />
  </joint>
  <link
    name="BLRoller9">
    <inertial>
      <origin
        xyz="-1.35459343464372E-08 -3.14932402656343E-08 -5.88804667117637E-06"
        rpy="0 0 0" />
      <mass
        value="0.0112744100453136" />
      <inertia
        ixx="1.80405601151264E-06"
        ixy="-3.58537620008819E-11"
        ixz="7.44015169750218E-13"
        iyy="1.8039546919774E-06"
        iyz="-4.87641054724038E-14"
        izz="4.61589887959331E-07" />
    </inertial>
    <visual>
      <origin
        xyz="0 0 0"
        rpy="0 0 0" />
      <geometry>
        <mesh
          filename="package://strafer_model/meshes/roller.STL" />
      </geometry>
      <material
        name="">
        <color
          rgba="0.792156862745098 0.819607843137255 0.933333333333333 1" />
      </material>
    </visual>
    <collision>
      <origin
        xyz="0 0 0"
        rpy="0 0 0" />
      <geometry>
        <mesh
          filename="package://strafer_model/meshes/roller.STL" />
      </geometry>
    </collision>
  </link>
  <joint
    name="BLRoll9"
    type="continuous">
    <origin
      xyz="0.017025 -0.036501 0.0042545"
      rpy="0.7854 0 -1.1345" />
    <parent
      link="BackLeftWheel" />
    <child
      link="BLRoller9" />
    <axis
      xyz="0 0 -1" />
  </joint>
</robot>
